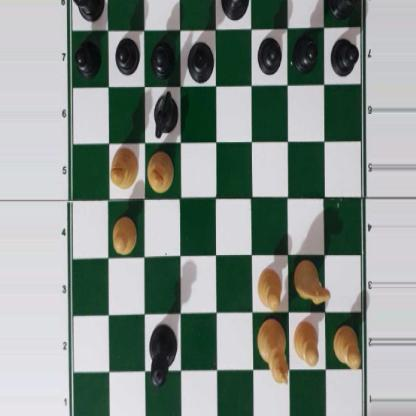black-bishop: (185, 40, 214, 85)
black-king: (219, 0, 250, 21)
black-knight: (151, 88, 178, 140)
black-pawn: (330, 34, 357, 76), (150, 38, 175, 78), (74, 38, 100, 75), (114, 35, 138, 75), (257, 34, 281, 74), (293, 32, 317, 71)
black-queen: (147, 322, 178, 388)
black-rook: (69, 0, 105, 21), (329, 0, 364, 18)
white-bishop: (110, 147, 138, 189), (147, 150, 174, 193)
white-king: (257, 316, 290, 388)
white-knight: (295, 259, 331, 306)
white-pawn: (332, 323, 360, 369), (293, 321, 320, 368), (257, 264, 284, 309), (111, 215, 137, 255)
